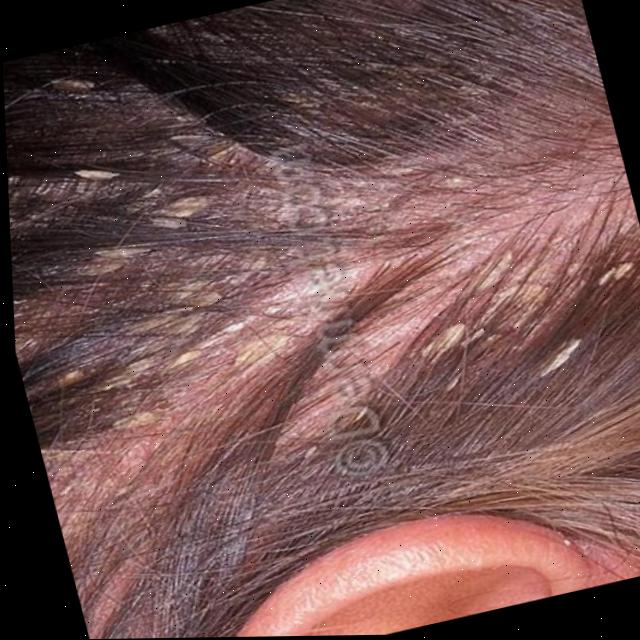Eczema: (120, 96, 640, 491)
